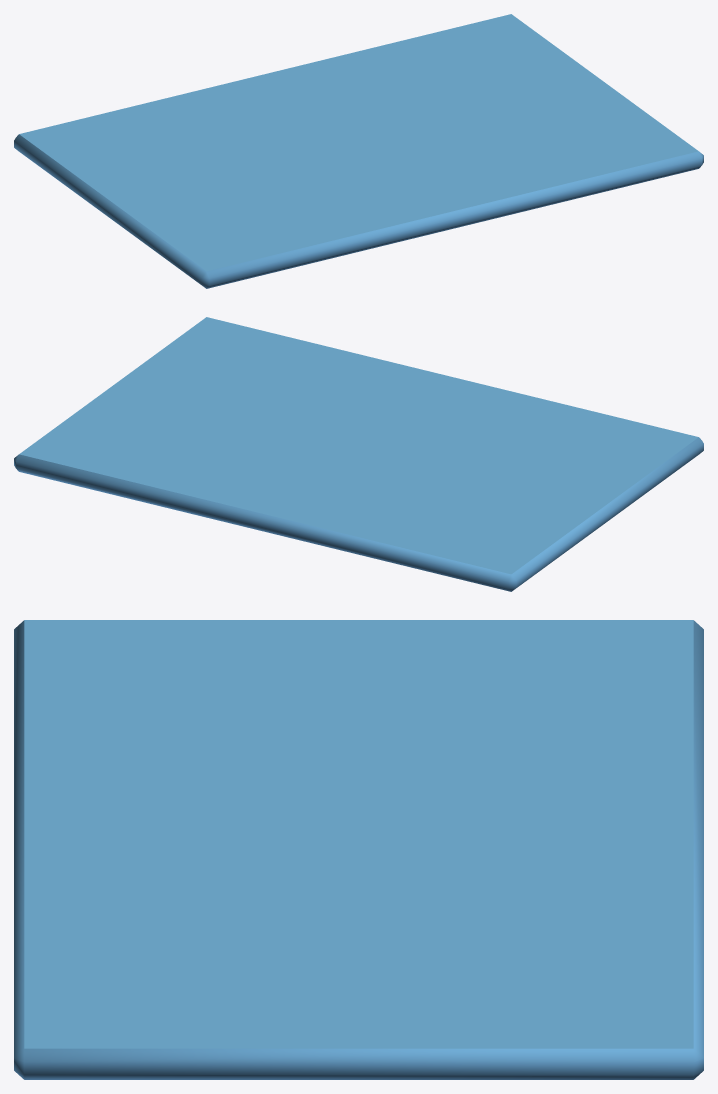
File: rug_rectangle_B.obj
3 views of the same model, one above another, from view 1: azimuth 30°, elevation 25°; view 2: azimuth 150°, elevation 25°; view 3: azimuth 270°, elevation 25° (orthographic). The views are drawn at different scales.
Parts seen in each view (by area): view 1: rug_rectangle_B_Cube.009; view 2: rug_rectangle_B_Cube.009; view 3: rug_rectangle_B_Cube.009.
Part boxes in pixels (left/top/right/bottom): rug_rectangle_B_Cube.009: left=14, top=14, right=703, bottom=288; rug_rectangle_B_Cube.009: left=14, top=317, right=703, bottom=591; rug_rectangle_B_Cube.009: left=14, top=620, right=703, bottom=1079.
Size of the model in its own units: 3 by 0.1 by 2.
1 material, 1 textured.
